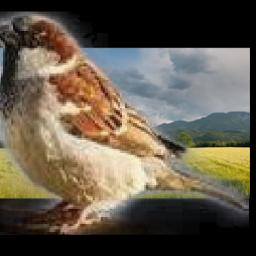Sparrow: (0, 12, 249, 235)
